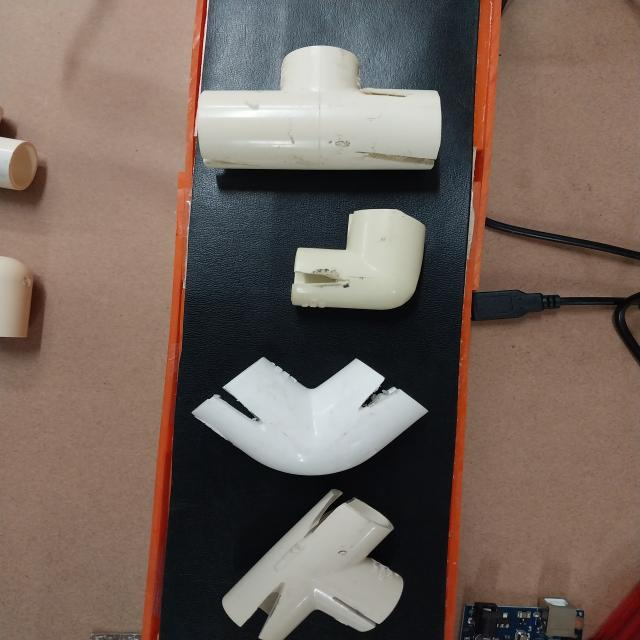Defective: (201, 364, 269, 431), (342, 587, 392, 633), (350, 144, 441, 168), (298, 498, 346, 542), (358, 519, 396, 573), (248, 582, 290, 628), (354, 375, 402, 414), (292, 272, 348, 285)
L Joint: (193, 354, 424, 481), (290, 210, 432, 314)
T Joint: (200, 47, 442, 176), (221, 490, 409, 640)
